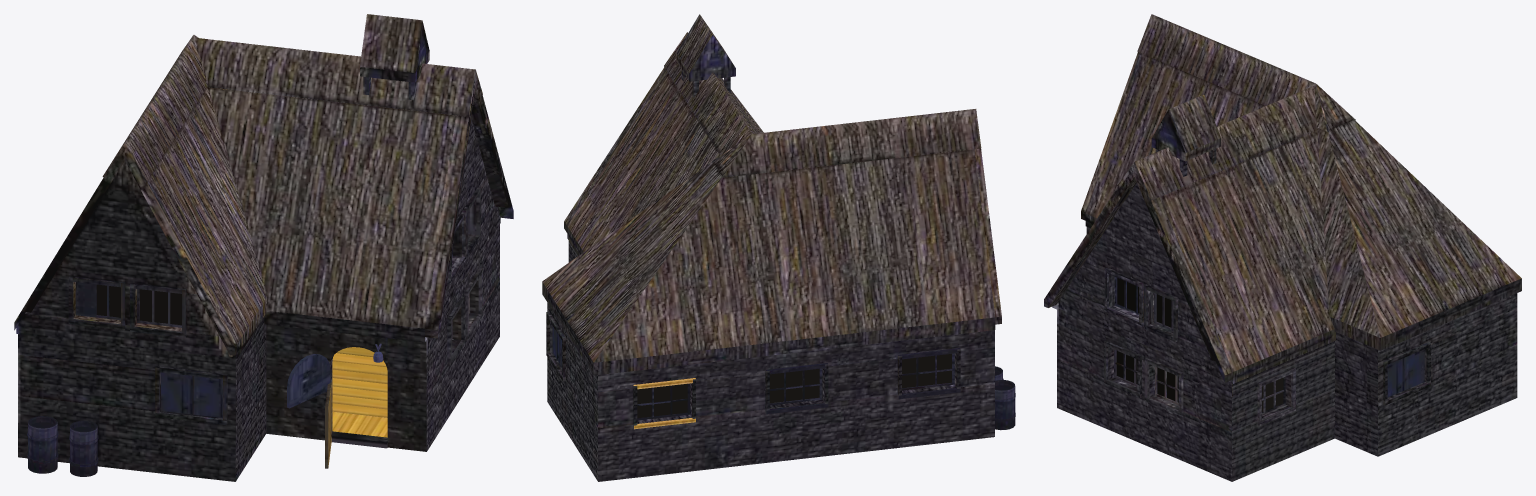
Rendered from tavern_textured.glb.
3 views of the same model, side by side, from view 1: azimuth 30°, elevation 25°; view 2: azimuth 150°, elevation 25°; view 3: azimuth 270°, elevation 25° (orthographic). The views are drawn at different scales.
Parts seen in each view (by area): view 1: roofs, walls, frames, openings; view 2: roofs, walls, frames, openings; view 3: roofs, walls, frames, openings.
Boxes of the visible parts, x1=… form: roofs: x1=14, y1=14, x2=513, y2=358; walls: x1=18, y1=77, x2=499, y2=481; frames: x1=68, y1=187, x2=482, y2=468; openings: x1=96, y1=284, x2=193, y2=413; roofs: x1=542, y1=14, x2=1001, y2=375; walls: x1=547, y1=70, x2=1015, y2=481; frames: x1=546, y1=311, x2=960, y2=429; openings: x1=637, y1=354, x2=951, y2=418; roofs: x1=1044, y1=14, x2=1521, y2=383; walls: x1=1057, y1=148, x2=1517, y2=481; frames: x1=1104, y1=268, x2=1430, y2=425; openings: x1=1116, y1=278, x2=1283, y2=411.
Size of the model in its own units: 10.27 by 7.26 by 9.71.
Materials: 2 (1 with a texture image).
